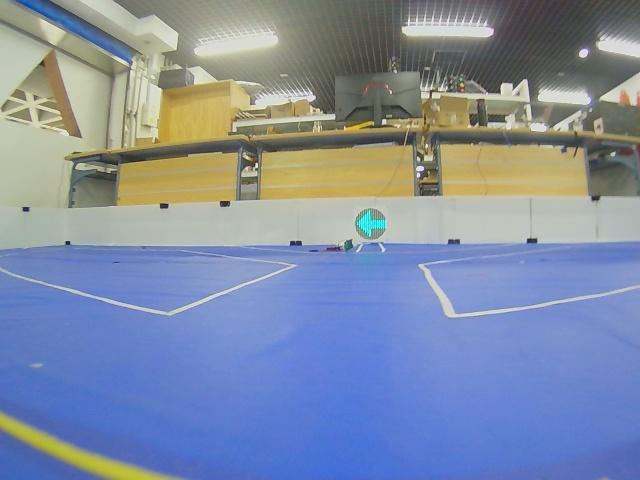left_green: (355, 208, 387, 240)
